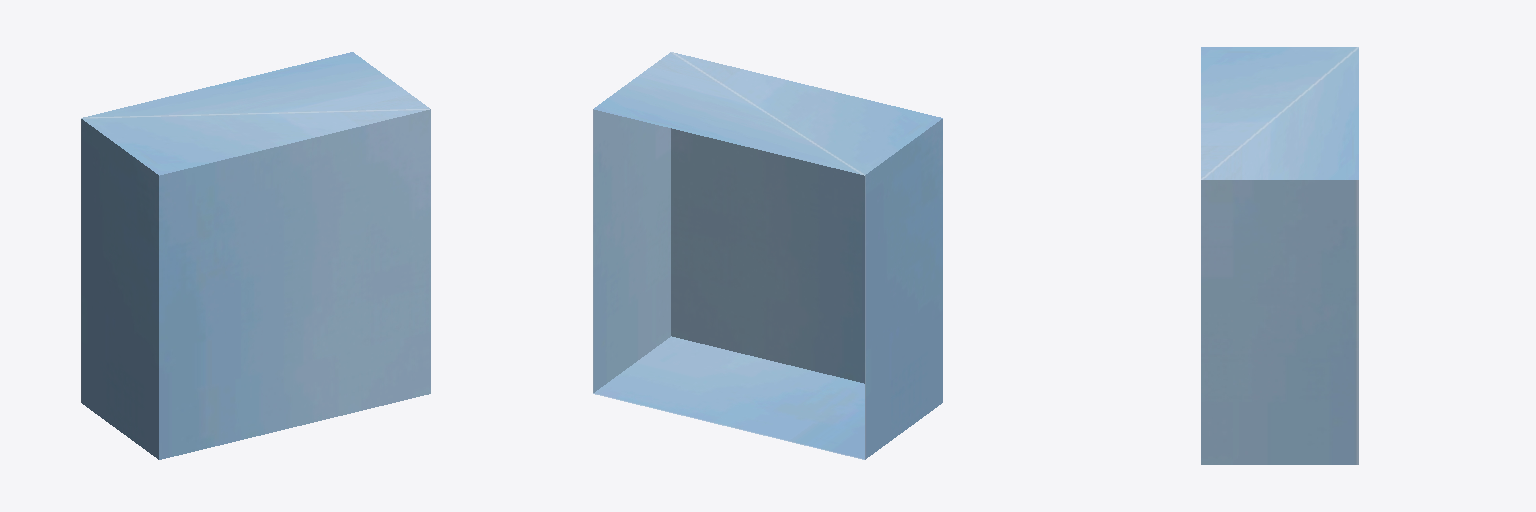
3 renders of one model, left to right at view 1: azimuth 30°, elevation 25°; view 2: azimuth 150°, elevation 25°; view 3: azimuth 270°, elevation 25°, orthographic.
Parts seen in each view (by area): view 1: Skybox; view 2: Skybox; view 3: Skybox.
Part boxes in pixels (bbox=[...]): Skybox: bbox=[81, 52, 430, 459]; Skybox: bbox=[593, 52, 942, 459]; Skybox: bbox=[1201, 47, 1358, 464].
Size of the model in its own units: 20000 by 20000 by 10000.
1 materials, 1 textured.